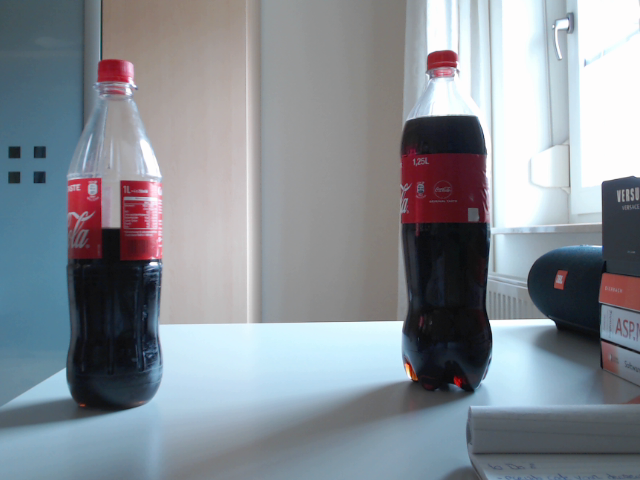bottle: (66, 59, 163, 410), (399, 50, 493, 394)
